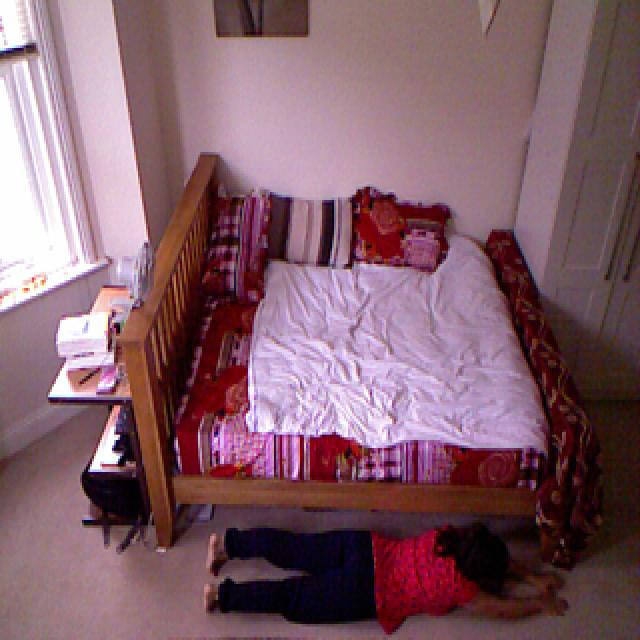lying: (198, 508, 573, 629)
